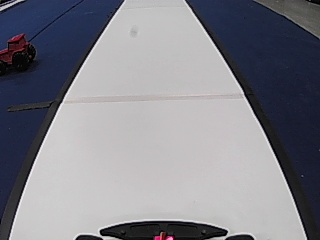tractor: (0, 31, 37, 73)
